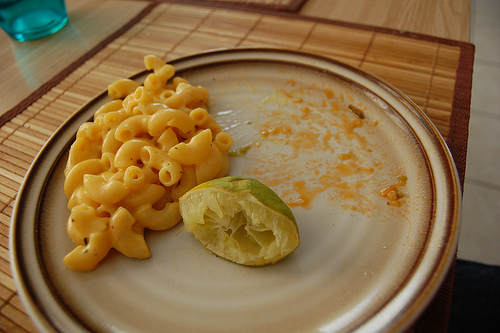macncheese: (53, 51, 228, 272)
